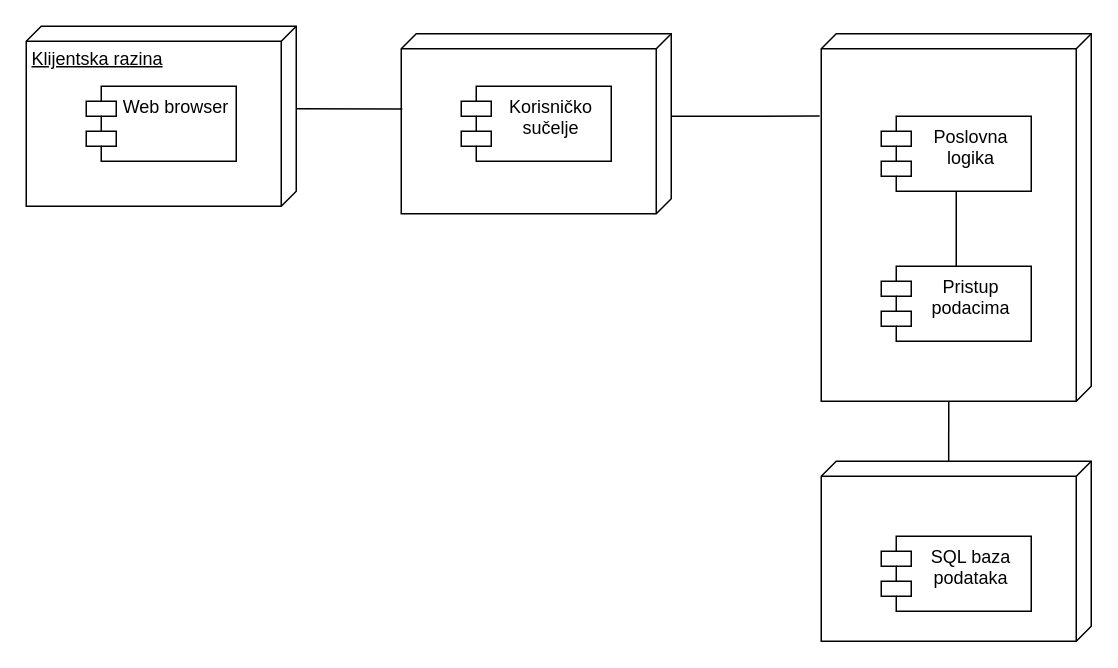
Image size: 1118x668. Some labels were removed from this diagram. The box of each missing label's shape, as (x1, y1, x2, y2) in pixels:
Aplikacijska razina: (820, 32, 1091, 401)
Podatkovna razina: (820, 460, 1091, 641)
Web razina: (400, 32, 671, 214)
